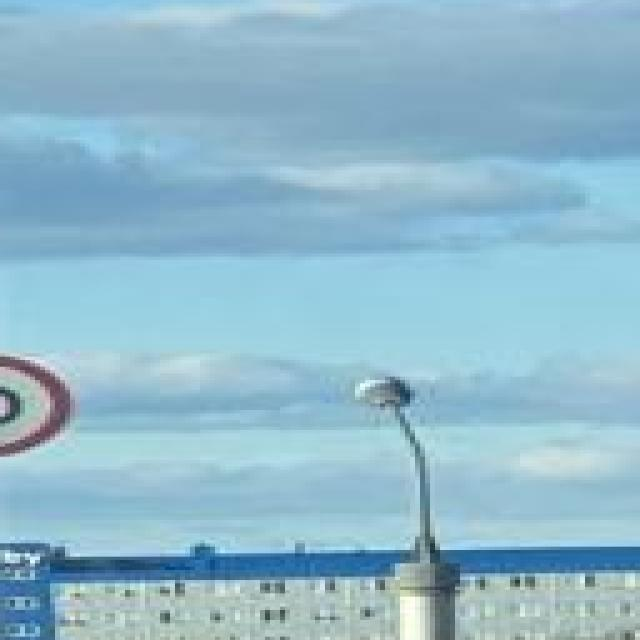Speed Limit -90-: (0, 347, 80, 463)
